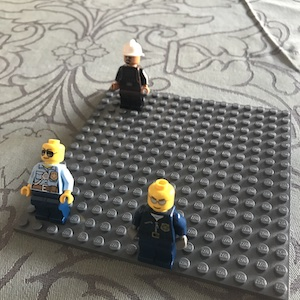Lego: (132, 178, 187, 268), (20, 136, 74, 224), (111, 37, 149, 111)
